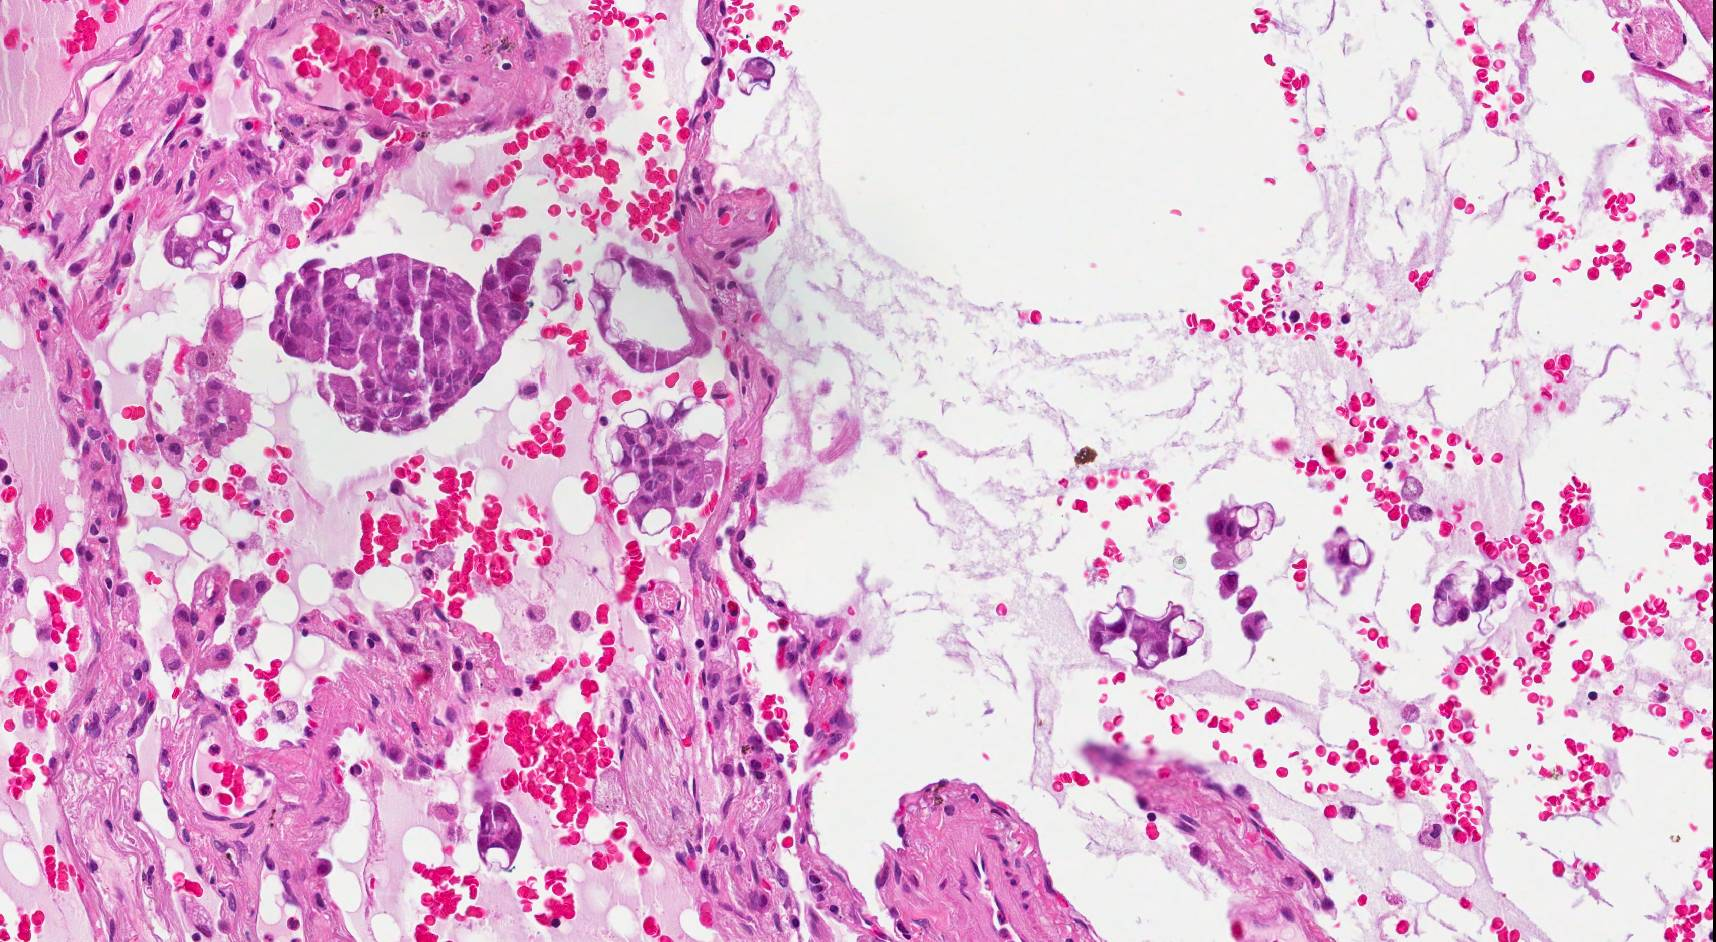stas: (268, 236, 544, 437), (596, 388, 734, 543), (583, 239, 720, 374), (1202, 496, 1296, 655), (1085, 582, 1210, 670), (1425, 547, 1519, 641), (162, 199, 245, 278), (1317, 523, 1379, 599), (474, 798, 528, 872)
